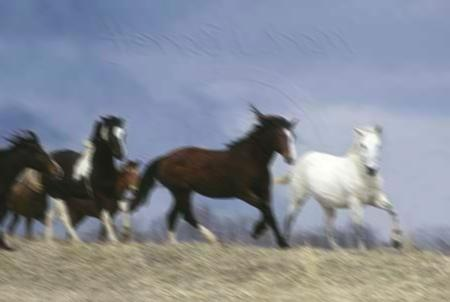horse: (116, 104, 298, 248), (270, 122, 402, 250), (5, 113, 128, 243), (0, 127, 62, 249)
